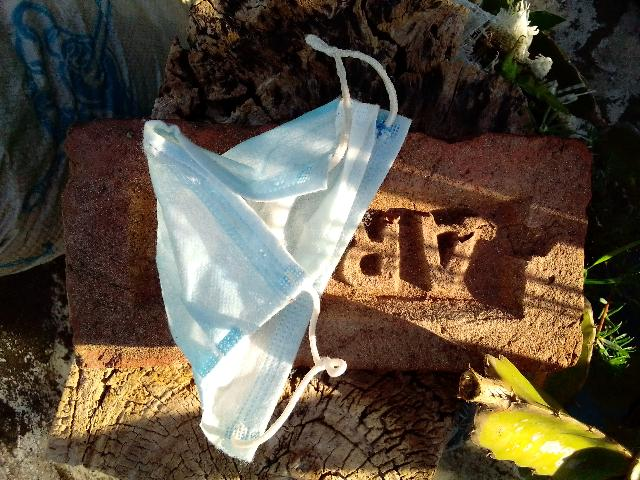mask: (141, 6, 410, 473)
